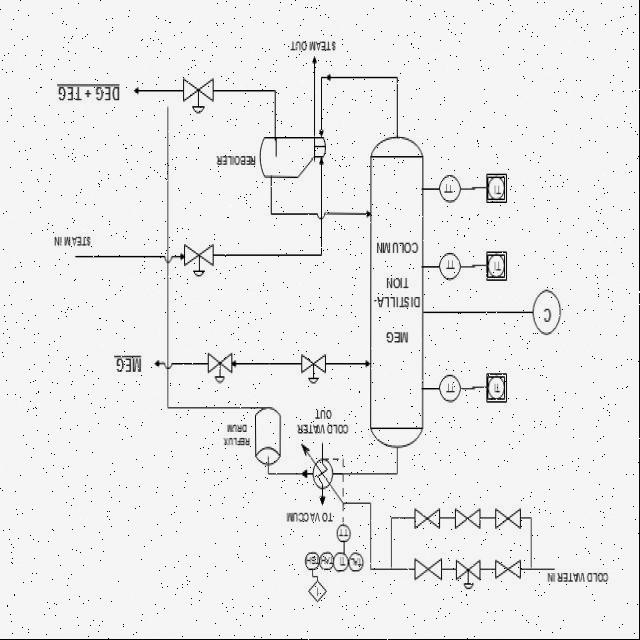Gate Valve: (408, 549, 448, 593), (490, 554, 524, 595), (492, 502, 528, 536), (410, 508, 444, 536), (451, 508, 485, 536)
Pneumatic-Diaphragm Gate Valve: (180, 228, 220, 290), (175, 72, 227, 116), (198, 342, 238, 390), (292, 345, 332, 389), (452, 549, 484, 597)
